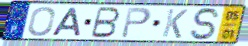A: (50, 7, 83, 37)
B: (89, 6, 122, 39)
K: (160, 8, 189, 40)
O: (27, 6, 57, 38)
P: (120, 7, 153, 40)
S: (189, 7, 223, 42)
